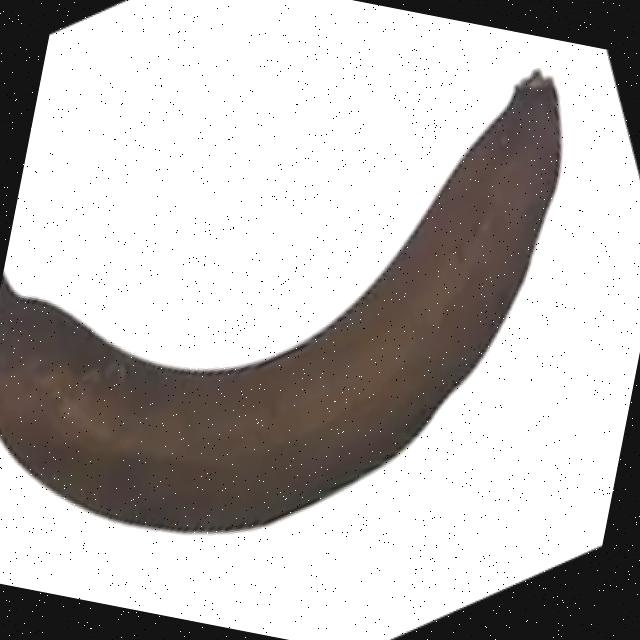Rotten: (0, 0, 602, 620)
